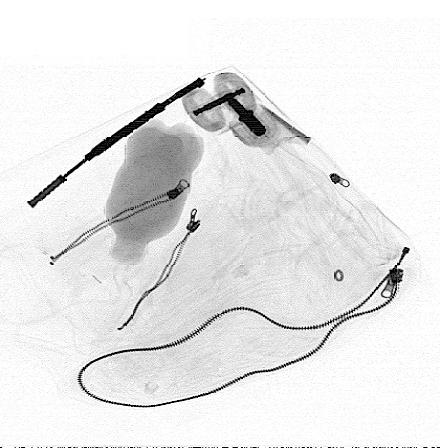Gun: (24, 75, 206, 212)
